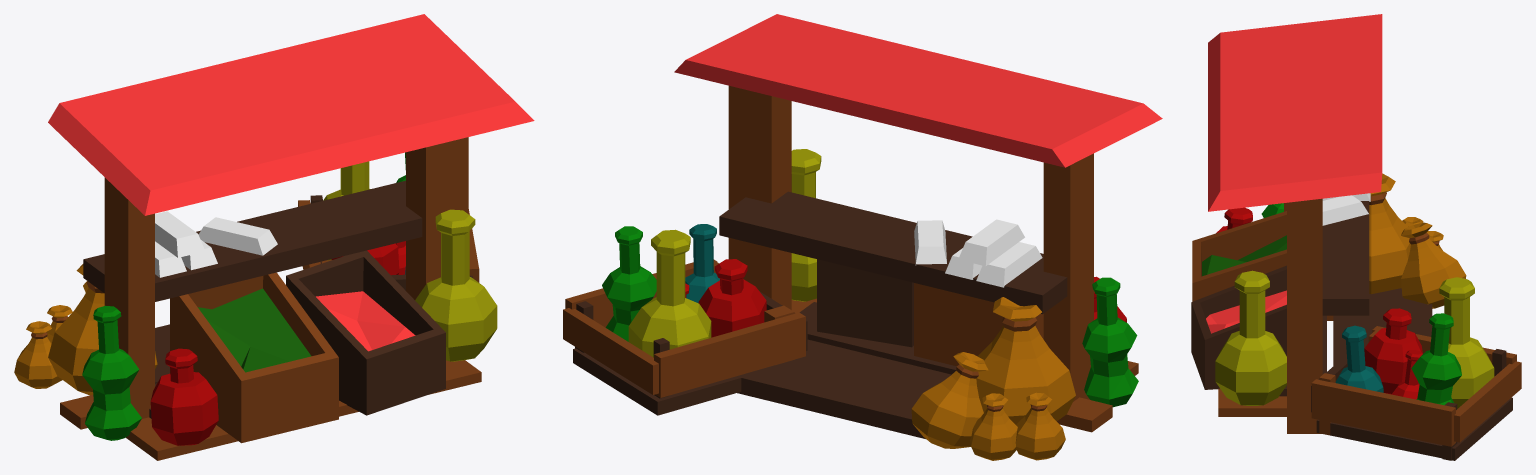
File: COMPLETE SHOP.fbx
3 renders of one model, left to right at view 1: azimuth 30°, elevation 25°; view 2: azimuth 150°, elevation 25°; view 3: azimuth 270°, elevation 25°, orthographic. The views are drawn at different scales.
Parts seen in each view (by area): view 1: Box009, Box001, Box002, Cylinder007, Cylinder006, Cylinder008, Cylinder009, Box014, Cylinder011, Box015, Cylinder001, Box011 (+1 smaller); view 2: Box009, Box011, Cylinder009, Box002, Cylinder001, Box001, Cylinder006, Cylinder010, Box014, Cylinder004, Cylinder003, Cylinder007 (+4 smaller); view 3: Box009, Box011, Cylinder007, Box001, Box002, Cylinder001, Cylinder009, Cylinder010, Cylinder004, Cylinder003, Cylinder002, Box015 (+2 smaller).
Part boxes in pixels (x1=…): Box009: x1=48, y1=14, x2=534, y2=460; Box001: x1=170, y1=272, x2=338, y2=443; Box002: x1=286, y1=250, x2=445, y2=415; Cylinder007: x1=415, y1=209, x2=497, y2=361; Cylinder006: x1=82, y1=305, x2=141, y2=440; Cylinder008: x1=150, y1=348, x2=218, y2=445; Cylinder009: x1=48, y1=264, x2=157, y2=395; Box014: x1=155, y1=211, x2=217, y2=277; Cylinder011: x1=14, y1=321, x2=62, y2=388; Box015: x1=198, y1=217, x2=277, y2=255; Cylinder001: x1=323, y1=161, x2=370, y2=260; Box011: x1=298, y1=195, x2=479, y2=290; Box009: x1=674, y1=14, x2=1162, y2=438; Box011: x1=563, y1=259, x2=807, y2=415; Cylinder009: x1=976, y1=297, x2=1075, y2=424; Box002: x1=817, y1=259, x2=913, y2=347; Cylinder001: x1=628, y1=229, x2=711, y2=357; Box001: x1=914, y1=283, x2=1043, y2=366; Cylinder006: x1=1082, y1=277, x2=1138, y2=407; Cylinder010: x1=911, y1=352, x2=988, y2=448; Box014: x1=945, y1=219, x2=1042, y2=287; Cylinder004: x1=698, y1=259, x2=766, y2=337; Cylinder003: x1=602, y1=226, x2=656, y2=341; Cylinder007: x1=791, y1=149, x2=821, y2=301; Box009: x1=1208, y1=14, x2=1432, y2=433; Box011: x1=1311, y1=326, x2=1521, y2=460; Cylinder007: x1=1215, y1=270, x2=1286, y2=405; Box001: x1=1192, y1=211, x2=1286, y2=301; Box002: x1=1191, y1=265, x2=1286, y2=389; Cylinder001: x1=1439, y1=277, x2=1494, y2=408; Cylinder009: x1=1369, y1=173, x2=1410, y2=294; Cylinder010: x1=1401, y1=222, x2=1466, y2=308; Cylinder004: x1=1364, y1=308, x2=1422, y2=394; Cylinder003: x1=1411, y1=313, x2=1461, y2=405; Cylinder002: x1=1335, y1=325, x2=1383, y2=392; Box015: x1=1322, y1=195, x2=1368, y2=225.
Bounding box in the file's own units: 54.34 × 32.72 × 36.87.
